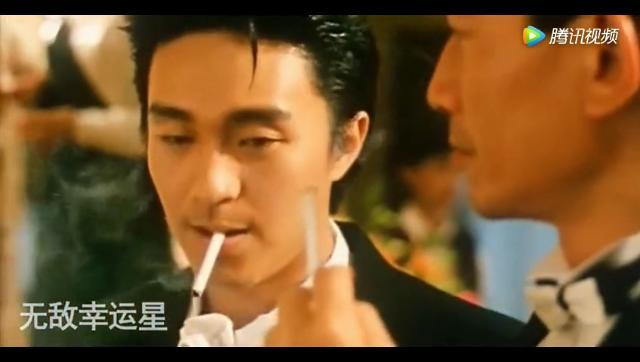SafeDriving: (225, 116, 296, 160)
Smoking: (186, 217, 228, 299)
